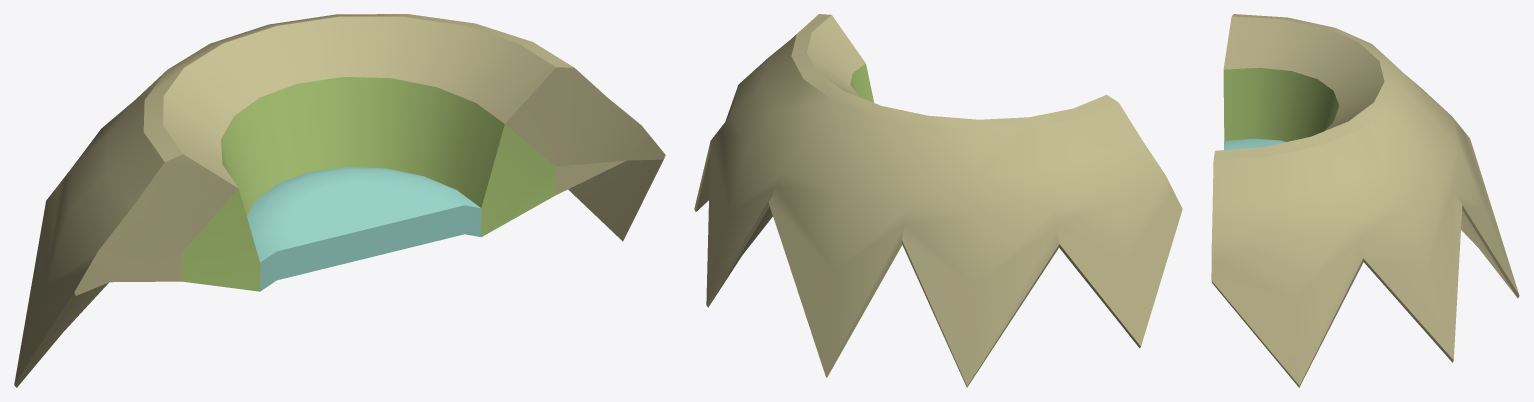
File: sara.fbx
3 renders of one model, left to right at view 1: azimuth 30°, elevation 25°; view 2: azimuth 150°, elevation 25°; view 3: azimuth 270°, elevation 25°, orthographic. The views are drawn at different scales.
Parts seen in each view (by area): view 1: polySurface70; view 2: polySurface70; view 3: polySurface70.
Boxes of the visible parts, x1,y1,x2,y2 form: polySurface70: [14, 14, 665, 387]; polySurface70: [694, 14, 1182, 387]; polySurface70: [1211, 14, 1519, 387].
Size of the model in its own units: 7.38 by 3.38 by 4.24.
